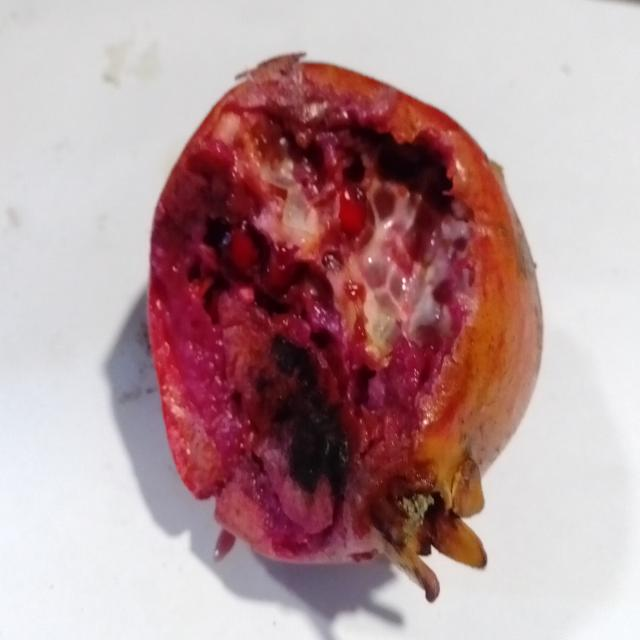Rotten: (143, 39, 549, 599)
